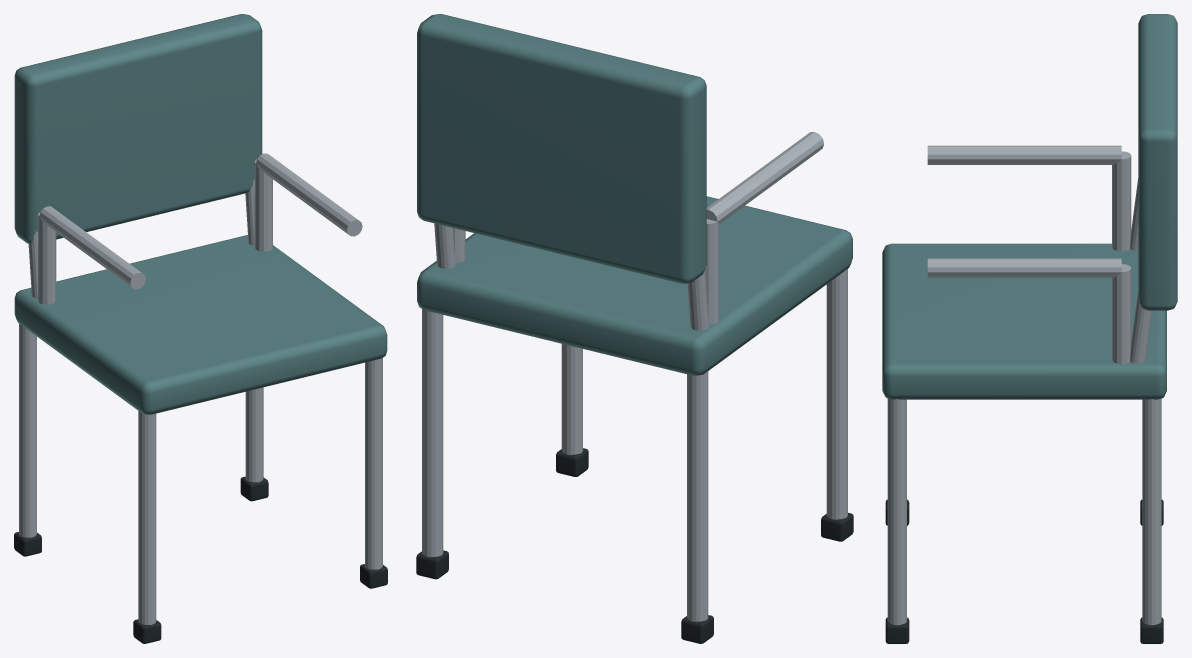
File: visitor_chair.fbx
3 views of the same model, side by side, from view 1: azimuth 30°, elevation 25°; view 2: azimuth 150°, elevation 25°; view 3: azimuth 270°, elevation 25° (orthographic). The views are drawn at different scales.
Visible parts, largest first — view 1: EQ_visitor_chair_M_Upholstery, EQ_visitor_chair_M_SteelBrushed, EQ_visitor_chair_M_RubberBlack; view 2: EQ_visitor_chair_M_Upholstery, EQ_visitor_chair_M_SteelBrushed, EQ_visitor_chair_M_RubberBlack; view 3: EQ_visitor_chair_M_Upholstery, EQ_visitor_chair_M_SteelBrushed, EQ_visitor_chair_M_RubberBlack.
Boxes of the visible parts, <box> form: EQ_visitor_chair_M_Upholstery: <box>14,14,387,414</box>; EQ_visitor_chair_M_SteelBrushed: <box>19,153,382,624</box>; EQ_visitor_chair_M_RubberBlack: <box>14,476,387,643</box>; EQ_visitor_chair_M_Upholstery: <box>417,14,852,375</box>; EQ_visitor_chair_M_SteelBrushed: <box>422,132,847,621</box>; EQ_visitor_chair_M_RubberBlack: <box>416,448,853,643</box>; EQ_visitor_chair_M_Upholstery: <box>882,14,1177,399</box>; EQ_visitor_chair_M_SteelBrushed: <box>887,145,1161,625</box>; EQ_visitor_chair_M_RubberBlack: <box>885,499,1163,643</box>.
Bounding box in the file's own units: 0.5 × 0.9275 × 0.4875.
